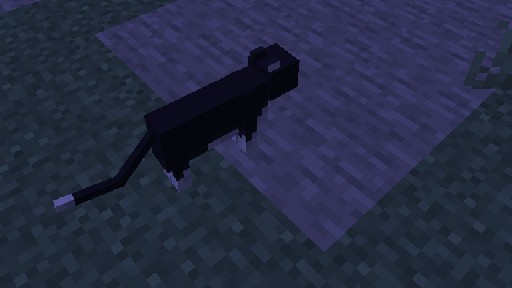cat: (52, 42, 299, 212)
